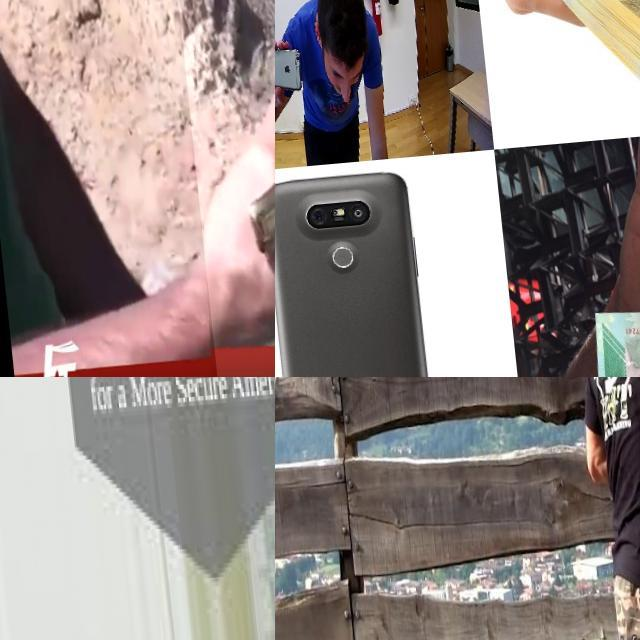gun-knife-thesis - v11 Yolov5 augmented: (174, 0, 275, 377), (0, 377, 50, 517)
